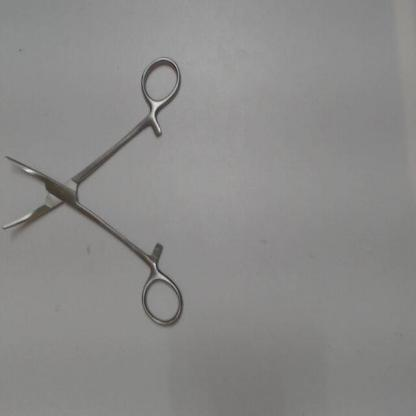Crile Artery Forceps: (0, 50, 190, 331)
